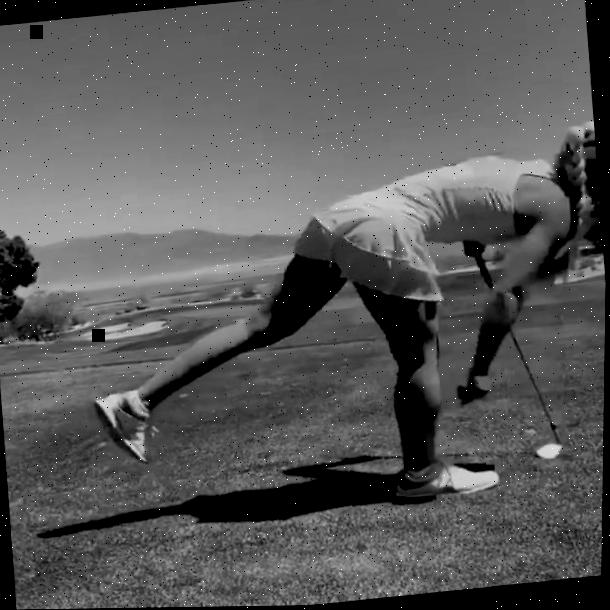ClubHead: (535, 446, 564, 462)
